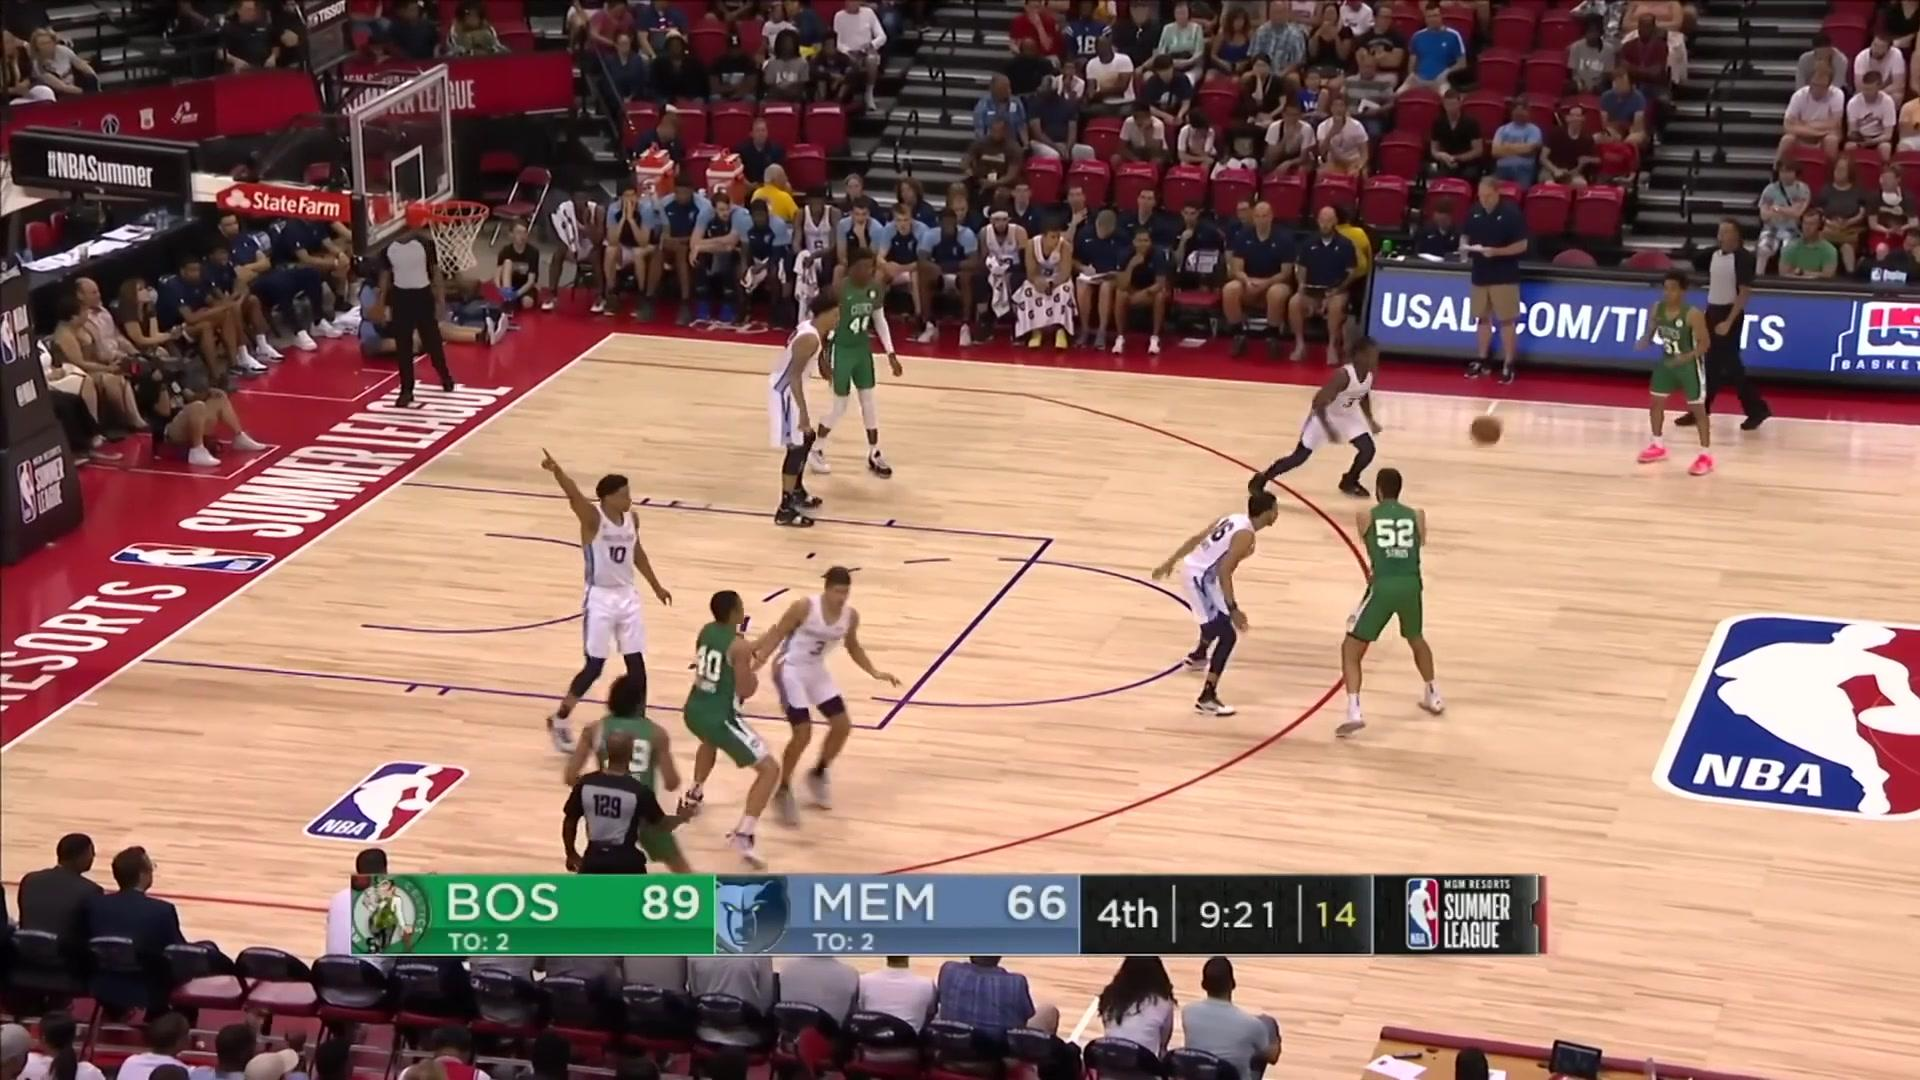no_foul: (1166, 477, 1499, 741)
